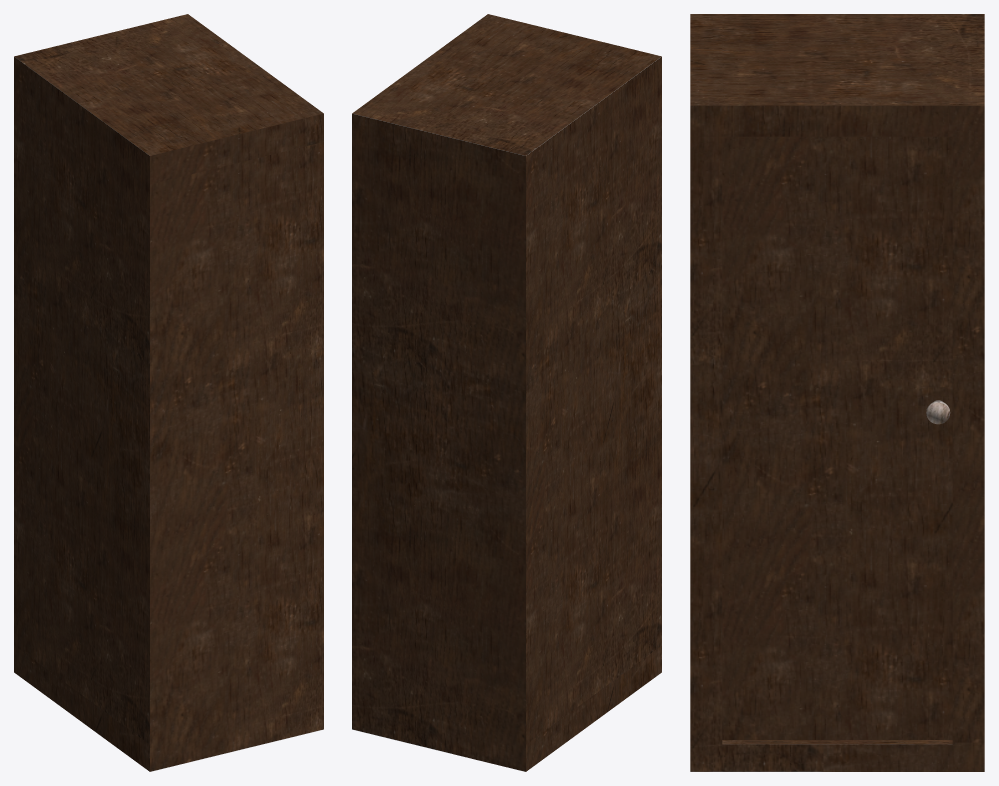
File: closet.glb
3 views of the same model, side by side, from view 1: azimuth 30°, elevation 25°; view 2: azimuth 150°, elevation 25°; view 3: azimuth 270°, elevation 25° (orthographic). The views are drawn at different scales.
Visible parts, largest first — view 1: Cube; view 2: Cube; view 3: Cube.
Boxes of the visible parts, x1,y1,x2,y2 form: Cube: (14,14,323,771); Cube: (352,14,661,771); Cube: (690,14,984,771).
Size of the model in its own units: 2.38 by 7.88 by 3.15.
1 material, 1 textured.
